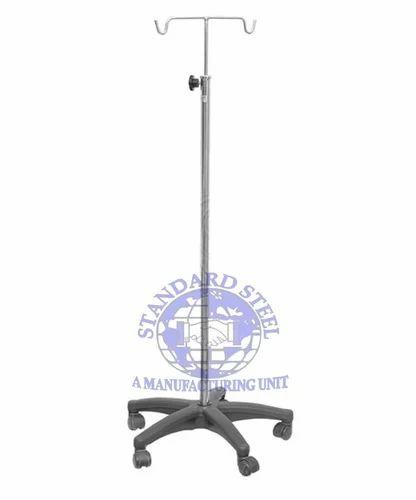Saline Stand: (125, 14, 294, 476)
